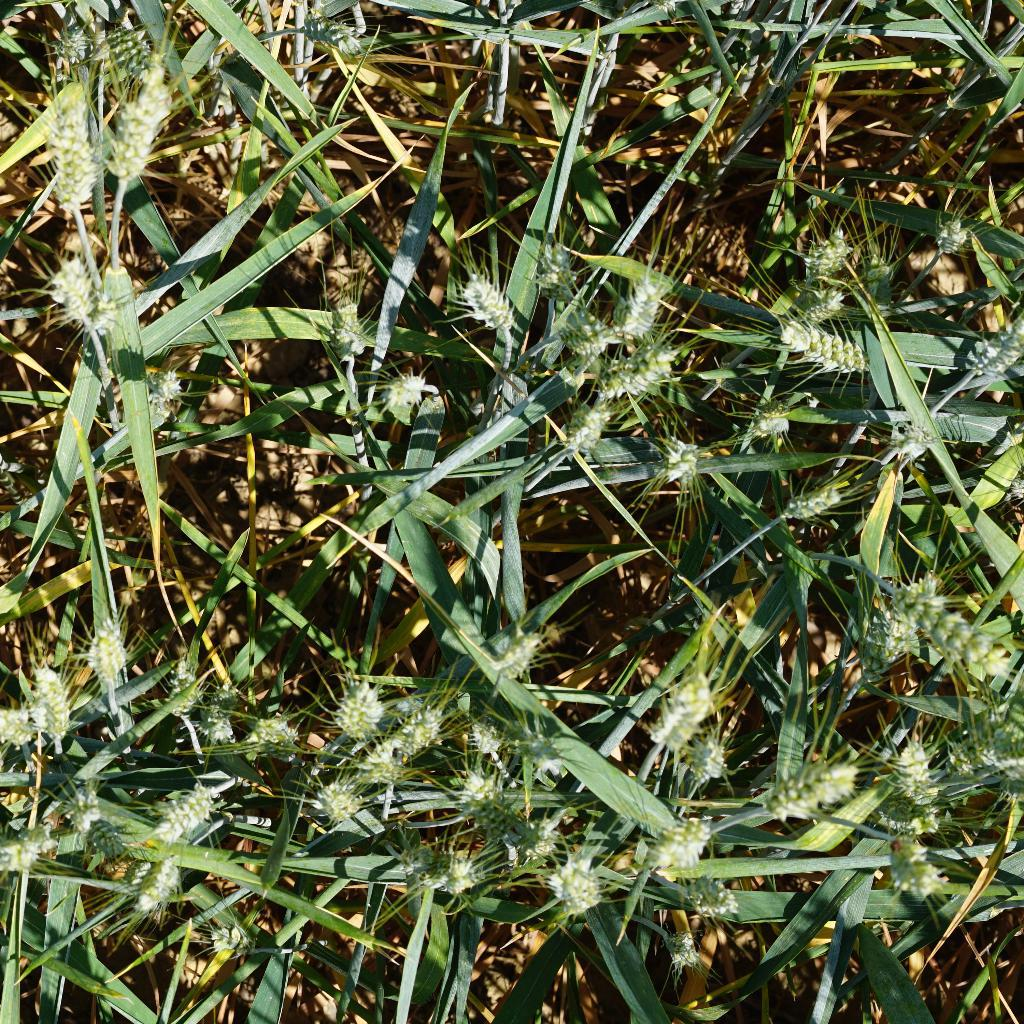0-0: (879, 568, 1013, 676), (97, 77, 178, 198), (761, 309, 874, 384), (434, 760, 527, 847), (445, 258, 522, 346), (642, 673, 722, 755), (40, 92, 100, 201), (769, 750, 864, 818), (85, 621, 149, 717), (25, 657, 83, 759), (598, 340, 688, 400), (484, 628, 568, 692), (651, 866, 751, 918), (881, 832, 950, 907), (605, 266, 672, 342), (649, 807, 731, 869), (138, 783, 225, 841), (98, 8, 160, 89), (961, 313, 1024, 391), (44, 256, 109, 329), (959, 716, 1024, 786), (780, 273, 862, 328), (119, 845, 189, 908), (548, 848, 610, 919), (341, 739, 412, 799), (325, 675, 384, 744), (739, 391, 804, 453), (800, 217, 858, 286), (289, 11, 367, 62), (419, 844, 482, 907), (317, 288, 367, 367), (189, 684, 238, 761), (892, 737, 945, 808), (0, 821, 62, 879), (373, 363, 432, 423), (389, 699, 447, 760), (851, 246, 907, 309), (194, 917, 270, 963), (131, 362, 190, 421), (556, 306, 610, 369), (33, 22, 86, 86), (535, 227, 582, 299), (890, 406, 952, 459), (162, 652, 203, 730), (684, 732, 740, 788), (505, 812, 562, 867), (565, 392, 616, 453), (647, 429, 709, 479), (73, 809, 132, 860), (66, 773, 115, 832), (299, 785, 359, 832), (873, 610, 919, 671), (515, 728, 570, 778), (780, 484, 841, 529), (646, 927, 704, 973), (464, 718, 519, 765), (242, 712, 295, 759), (931, 212, 972, 264), (0, 701, 41, 751), (634, 0, 700, 27), (206, 674, 250, 709)
